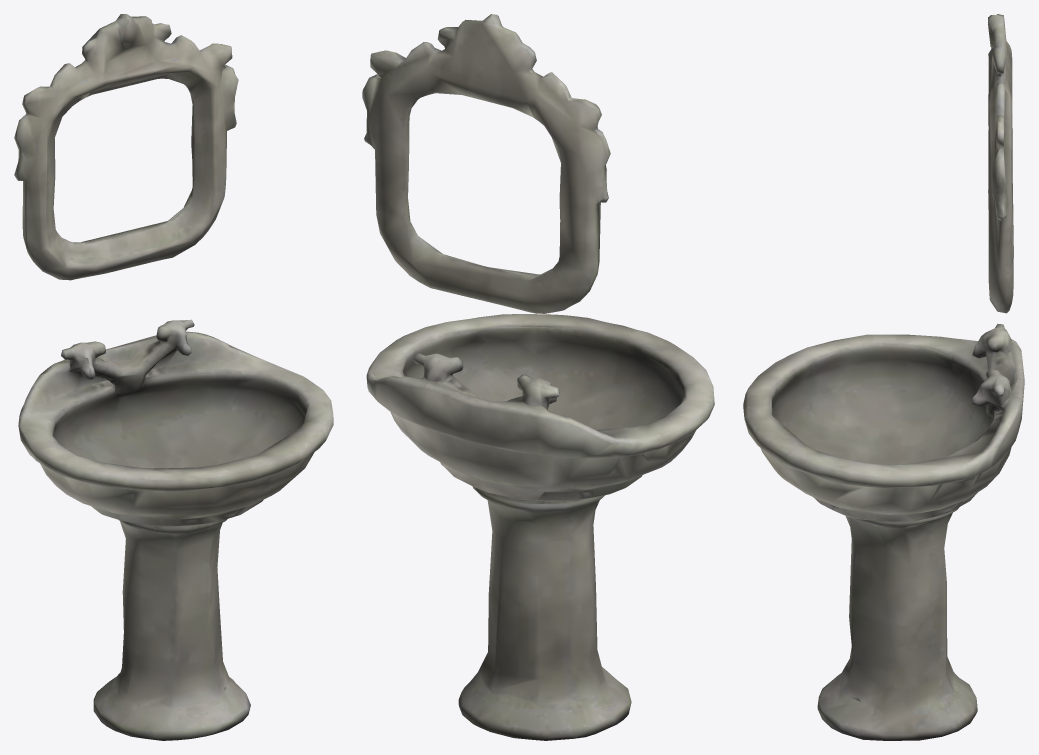
The model's file is ancient-white-painted-washbasin-v001.glb.
3 renders of one model, left to right at view 1: azimuth 30°, elevation 25°; view 2: azimuth 150°, elevation 25°; view 3: azimuth 270°, elevation 25°, orthographic. The views are drawn at different scales.
Visible parts, largest first — view 1: ancient-white-painted-washbasin; view 2: ancient-white-painted-washbasin; view 3: ancient-white-painted-washbasin.
Boxes of the visible parts, x1=… form: ancient-white-painted-washbasin: x1=14, y1=14, x2=333, y2=740; ancient-white-painted-washbasin: x1=362, y1=14, x2=714, y2=740; ancient-white-painted-washbasin: x1=743, y1=14, x2=1024, y2=740.
Bounding box in the file's own units: 0.3672 × 0.8294 × 0.3044.
1 material, 1 textured.
